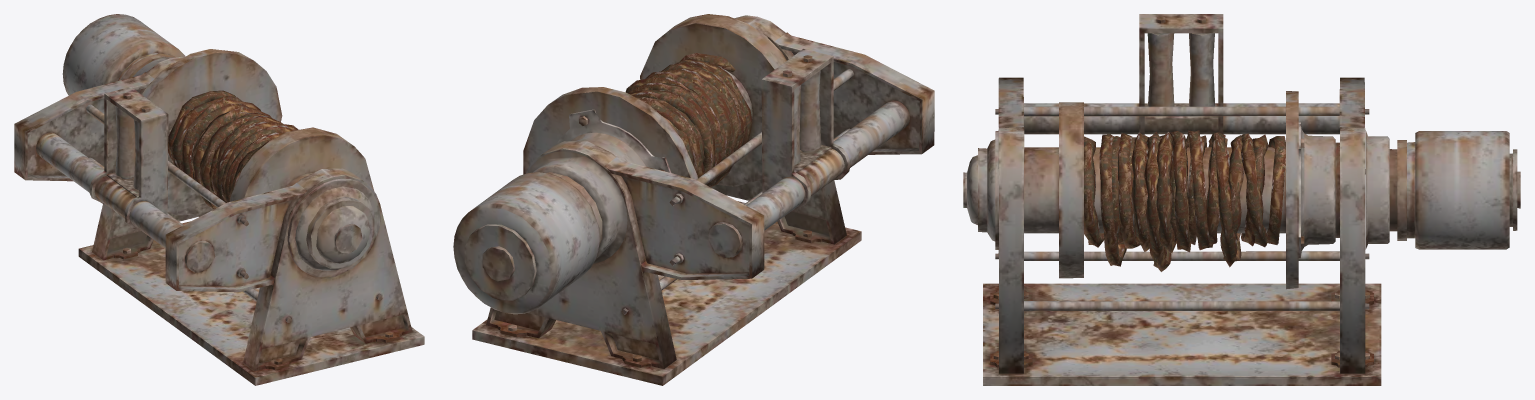
File: rope_drum.glb
3 views of the same model, side by side, from view 1: azimuth 30°, elevation 25°; view 2: azimuth 150°, elevation 25°; view 3: azimuth 270°, elevation 25° (orthographic). The views are drawn at different scales.
Parts seen in each view (by area): view 1: rope_drum_LOD0; view 2: rope_drum_LOD0; view 3: rope_drum_LOD0.
Part boxes in pixels (x1,y1,x2,y2): rope_drum_LOD0: (14, 14, 424, 385); rope_drum_LOD0: (453, 14, 934, 385); rope_drum_LOD0: (963, 14, 1520, 385).
Bounding box in the file's own units: 1.25 × 1.13 × 2.21.
Materials: 2 (2 with a texture image).
